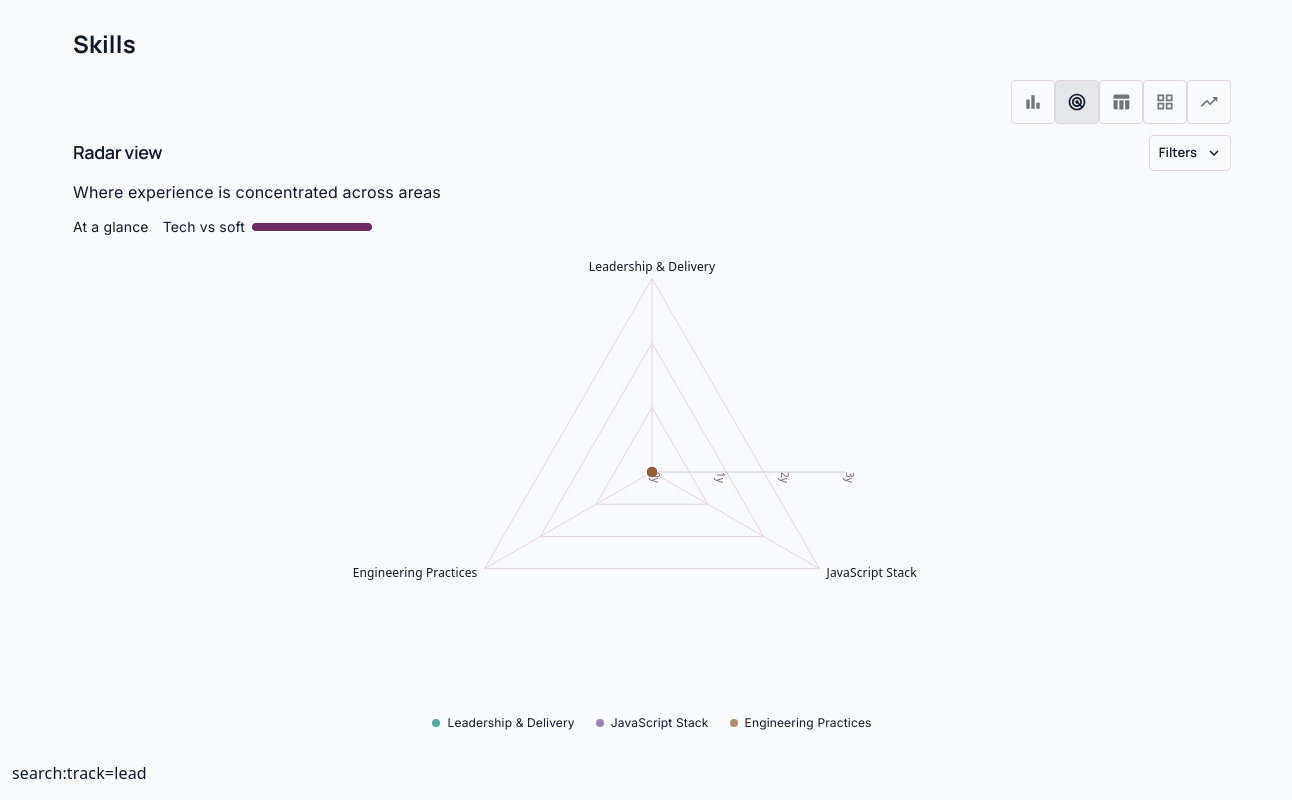
Test: Skills › track URL sync › groups skills by the active track's taxonomy for ?track=lead
Click the button "Filters": (1190, 153) top-left (1149, 135), bottom-right (1231, 171)
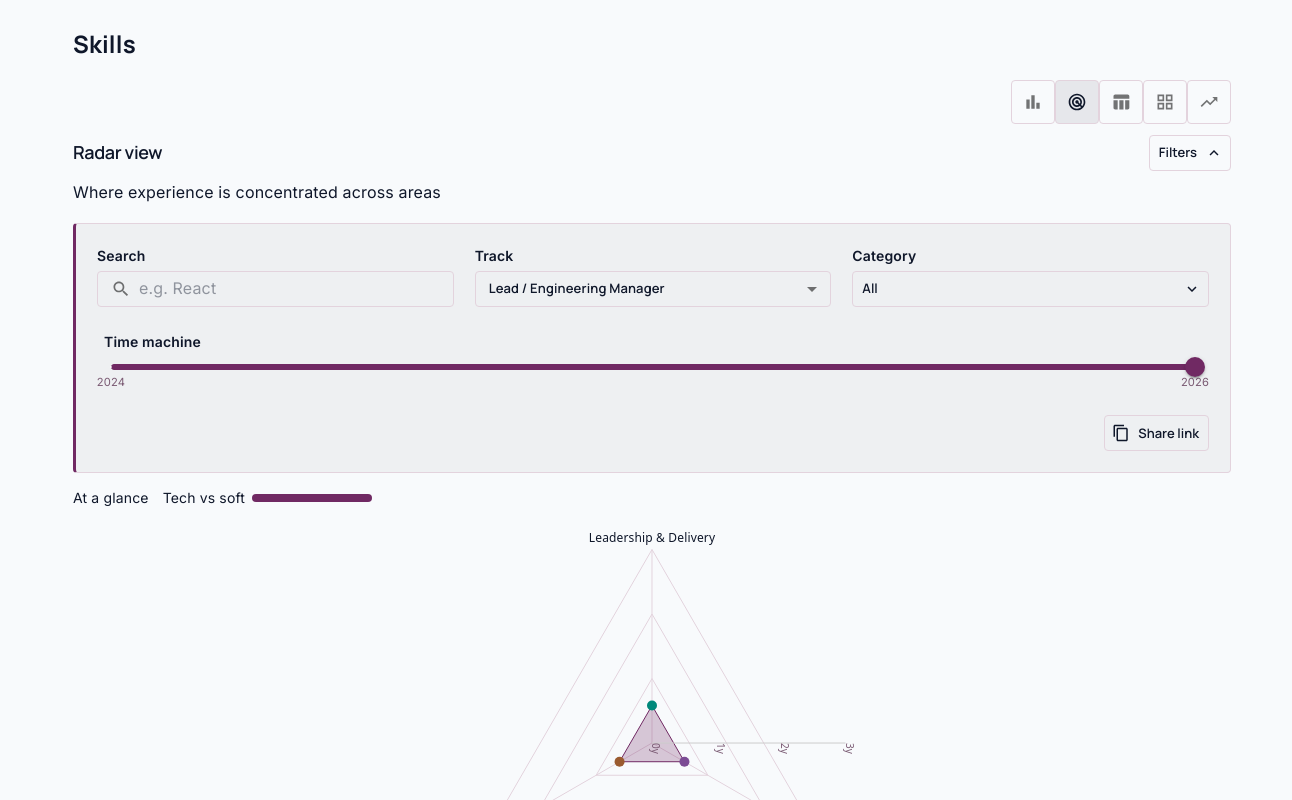
Click the button with aria-label "Filter skills by category, currently: All": (870, 288) top-left (852, 271), bottom-right (1209, 307)
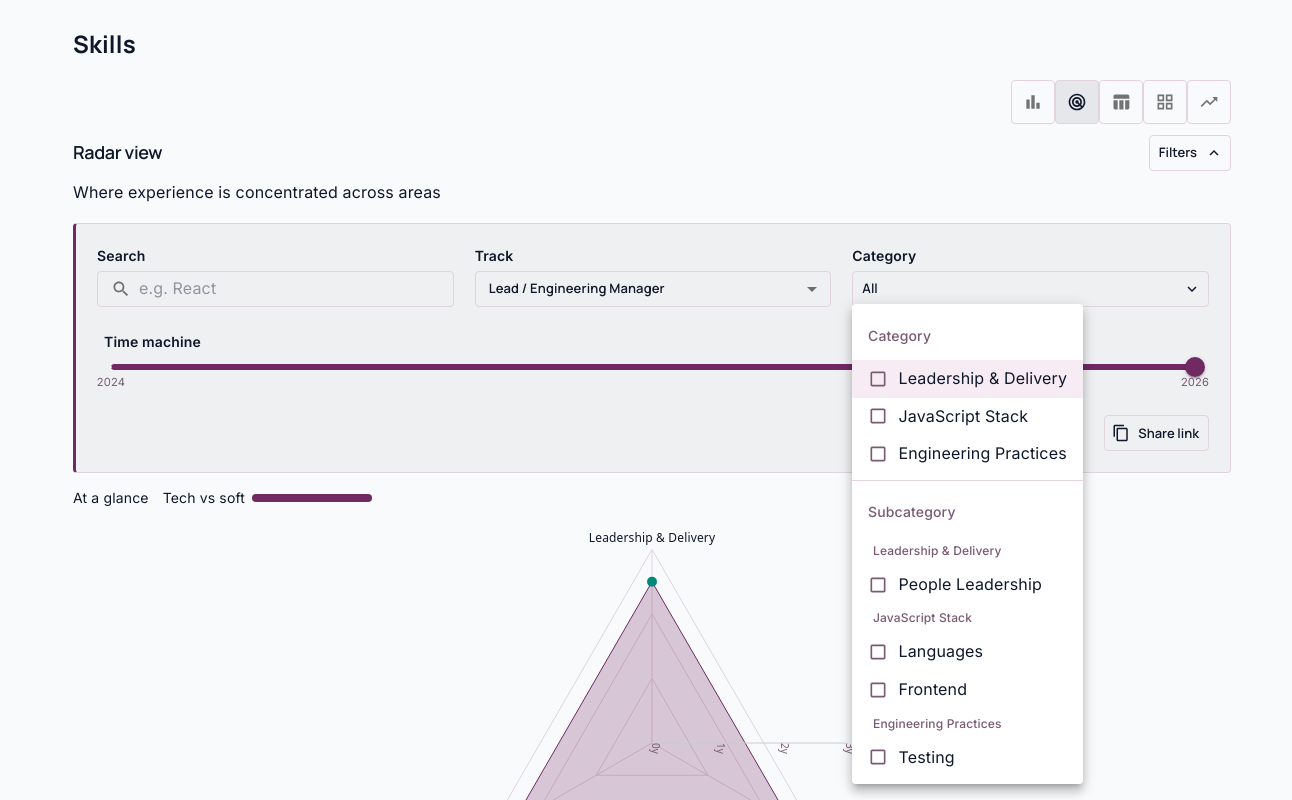
Check: the menu item "JavaScript Stack" is shown, box top-left (868, 406), bottom-right (1028, 426)
